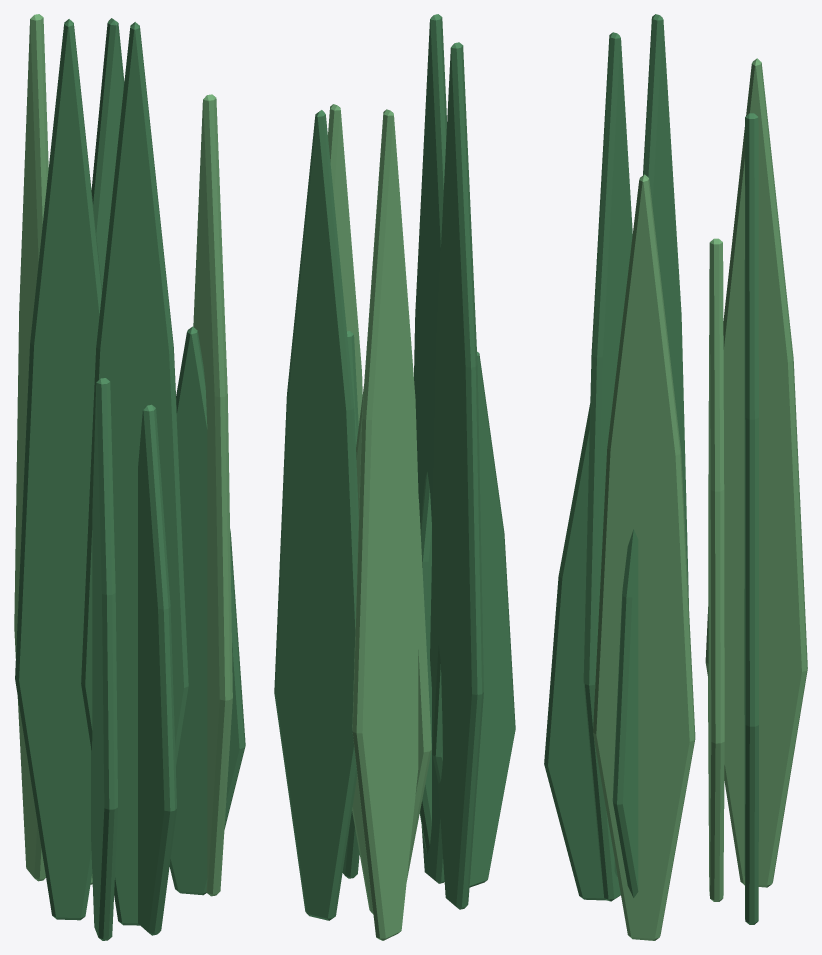
The model's file is prop_uw_eelgrass_c.glb.
3 renders of one model, left to right at view 1: azimuth 30°, elevation 25°; view 2: azimuth 150°, elevation 25°; view 3: azimuth 270°, elevation 25°, orthographic. The views are drawn at different scales.
Parts seen in each view (by area): view 1: eelc_1, eelc_8, eelc_3, eelc_5, eelc_2, eelc_7, eelc_0, eelc_4; view 2: eelc_4, eelc_0, eelc_1, eelc_7, eelc_8, eelc_6, eelc_3, eelc_2, eelc_5; view 3: eelc_3, eelc_0, eelc_8, eelc_2, eelc_4, eelc_6, eelc_1, eelc_5.
Part boxes in pixels (x1=…): eelc_1: x1=15, y1=19, x2=102, y2=920; eelc_8: x1=81, y1=22, x2=188, y2=925; eelc_3: x1=193, y1=94, x2=232, y2=896; eelc_5: x1=169, y1=326, x2=245, y2=895; eelc_2: x1=138, y1=404, x2=176, y2=935; eelc_7: x1=91, y1=378, x2=117, y2=940; eelc_0: x1=14, y1=14, x2=48, y2=881; eelc_4: x1=91, y1=18, x2=124, y2=289; eelc_4: x1=274, y1=110, x2=358, y2=920; eelc_0: x1=352, y1=109, x2=421, y2=940; eelc_1: x1=430, y1=42, x2=483, y2=909; eelc_7: x1=432, y1=351, x2=515, y2=887; eelc_8: x1=414, y1=14, x2=446, y2=883; eelc_6: x1=352, y1=386, x2=431, y2=913; eelc_3: x1=328, y1=104, x2=362, y2=425; eelc_2: x1=419, y1=471, x2=431, y2=853; eelc_5: x1=342, y1=331, x2=359, y2=878; eelc_3: x1=593, y1=174, x2=695, y2=940; eelc_0: x1=705, y1=58, x2=807, y2=887; eelc_8: x1=583, y1=32, x2=632, y2=901; eelc_2: x1=544, y1=403, x2=617, y2=900; eelc_4: x1=744, y1=113, x2=758, y2=924; eelc_6: x1=708, y1=238, x2=724, y2=901; eelc_1: x1=643, y1=14, x2=688, y2=604; eelc_5: x1=612, y1=529, x2=638, y2=897.
Size of the model in its own units: 0.1762 by 0.7757 by 0.2146.
